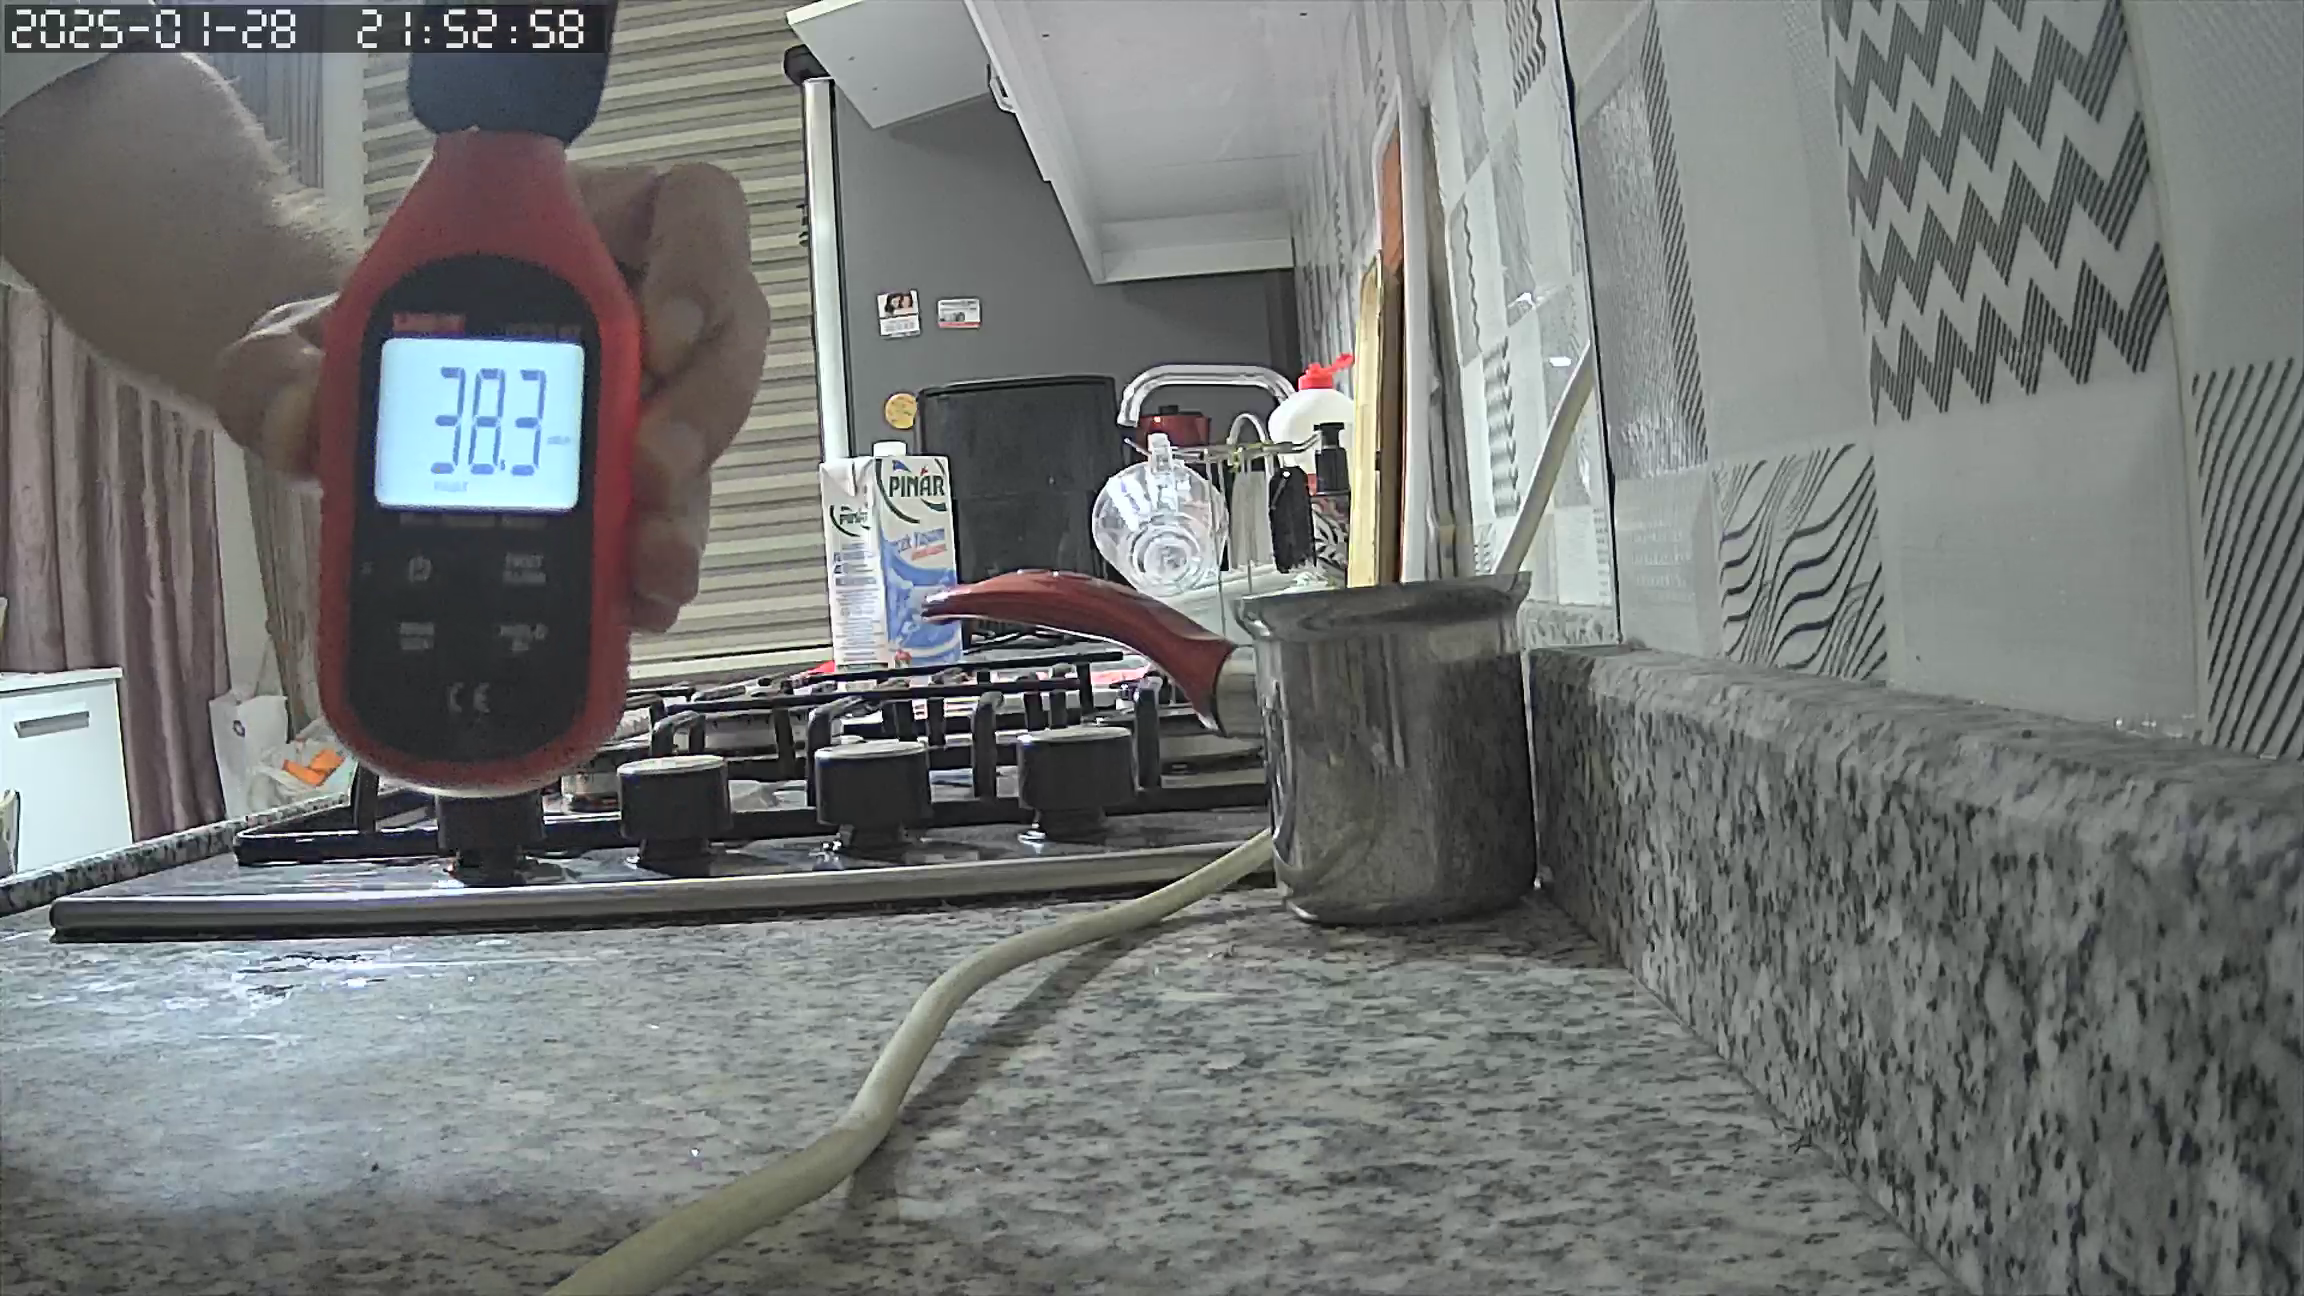screen: (375, 335, 584, 514)
